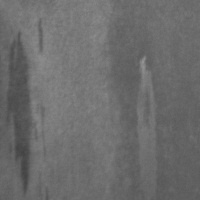inclusion: (2, 29, 37, 198), (33, 16, 50, 60)
